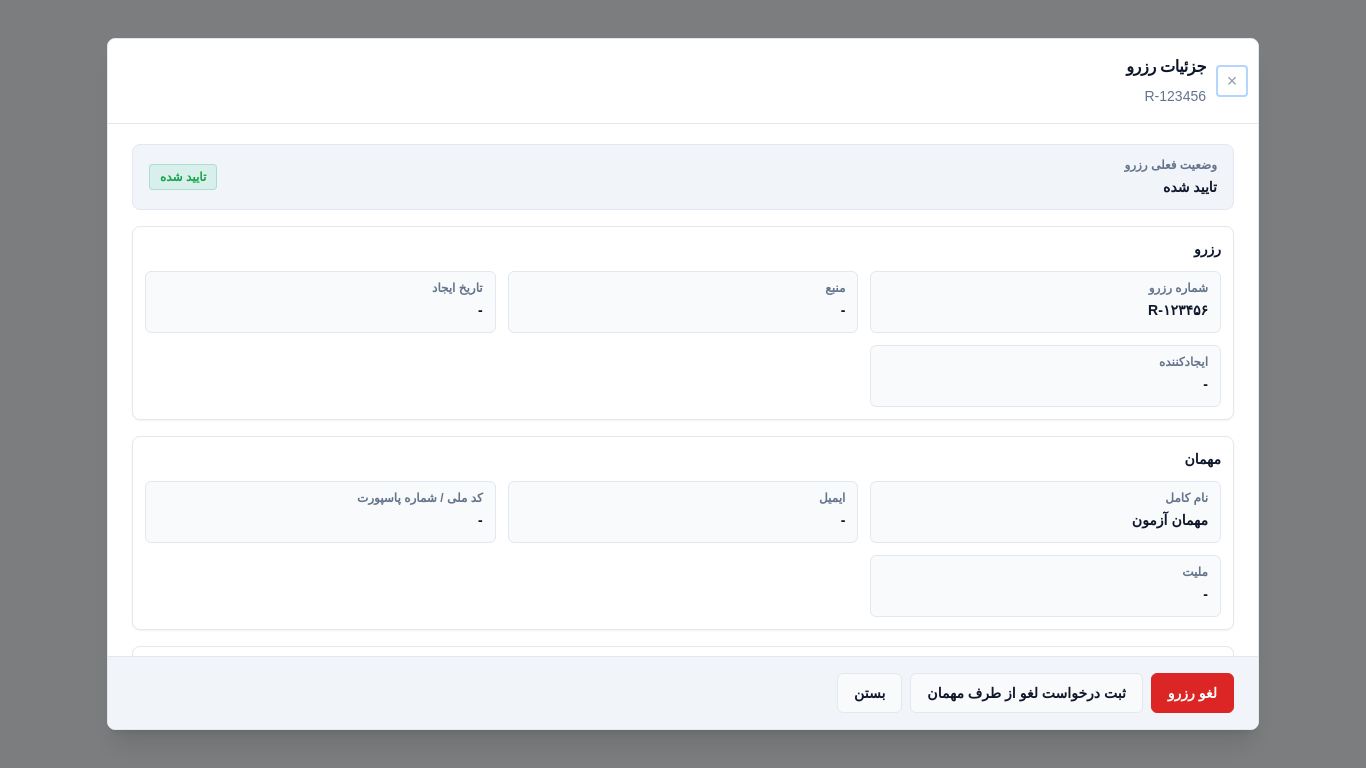
Test: Admin guest cancellation request in reservation details › prevents duplicate submission and preserves form values on an API error
Step 1. Click the button "ثبت درخواست لغو از طرف مهمان" → (1027, 693), box x1=910 y1=673 x2=1143 y2=713
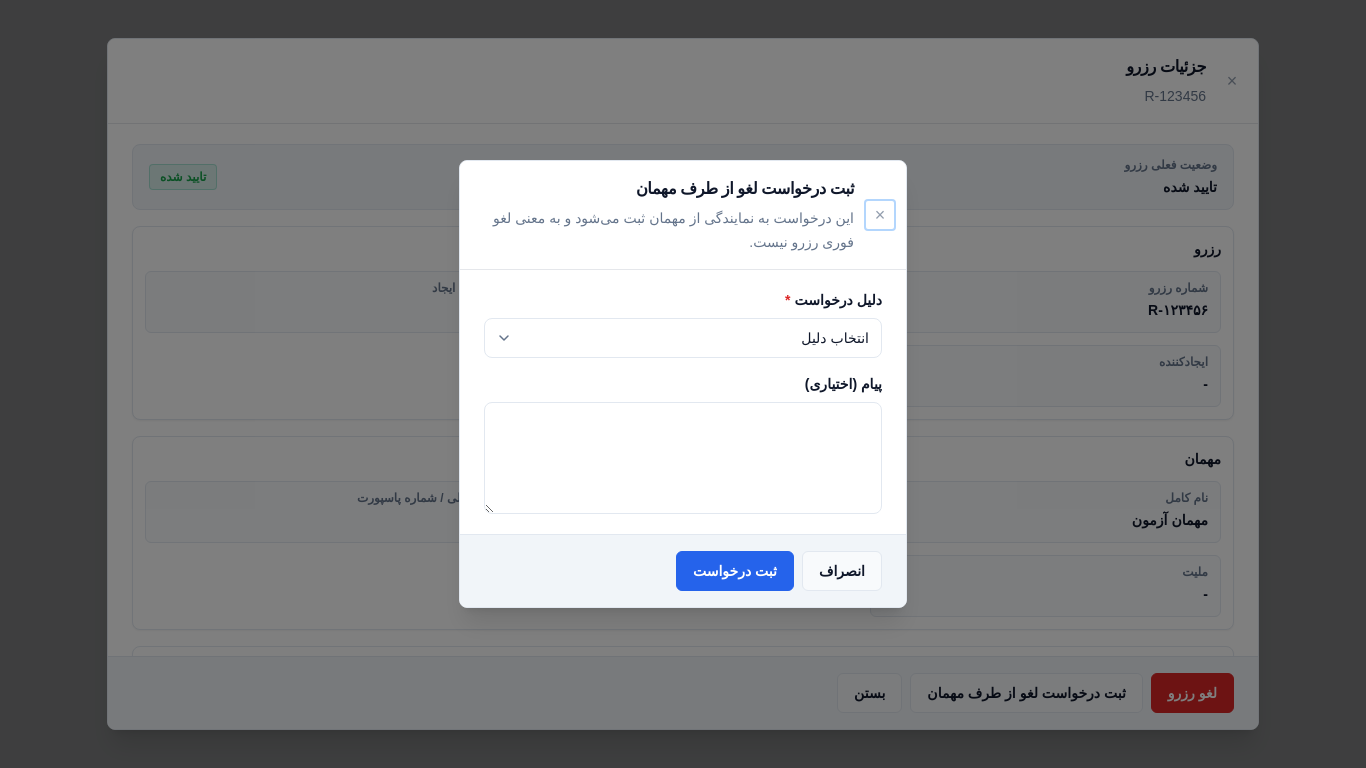
Step 2. Select "سایر" in the dropdown labelled "دلیل درخواست*" → (683, 338), box x1=484 y1=318 x2=882 y2=358
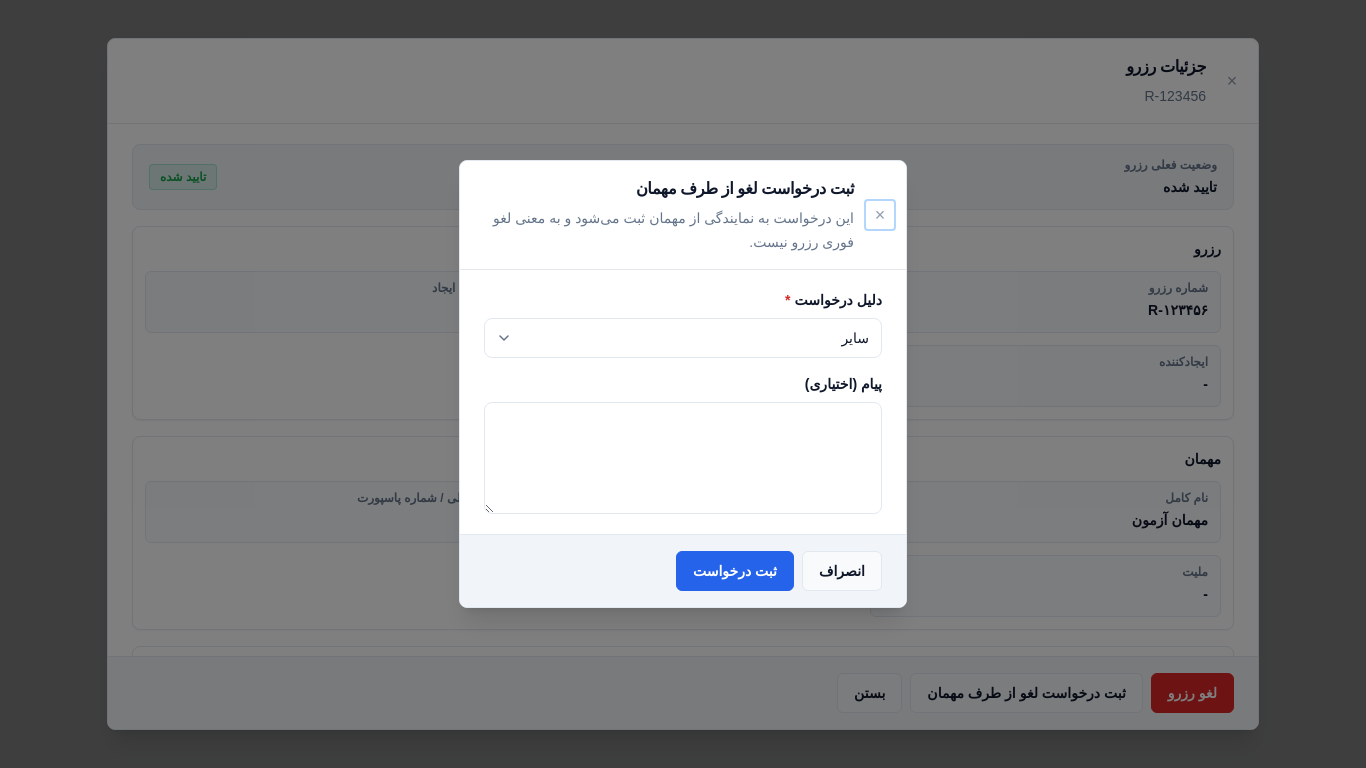
Step 3. Type "متن درخواست" into the text box labelled "پیام (اختیاری)" → (683, 458), box x1=484 y1=402 x2=882 y2=514
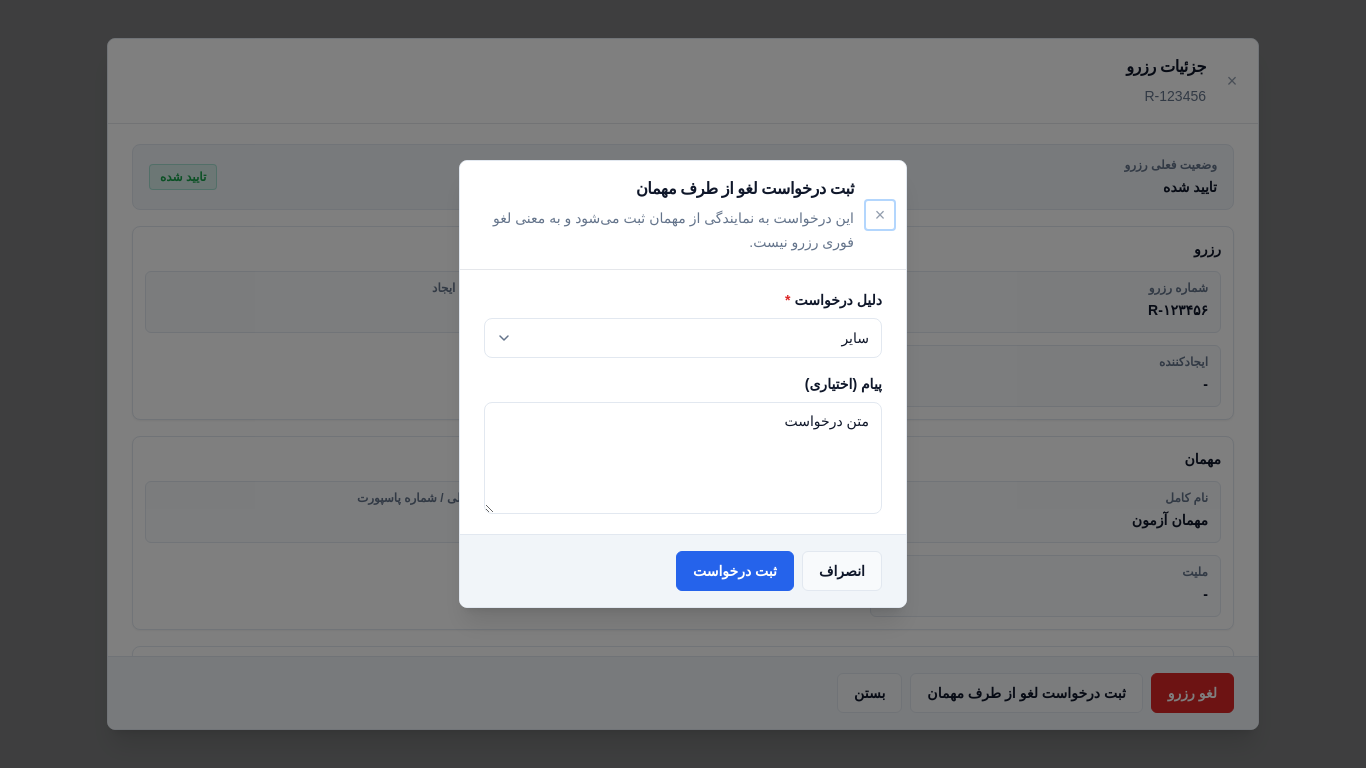
Step 4. Click the button "ثبت درخواست" → (735, 571), box x1=676 y1=551 x2=794 y2=591
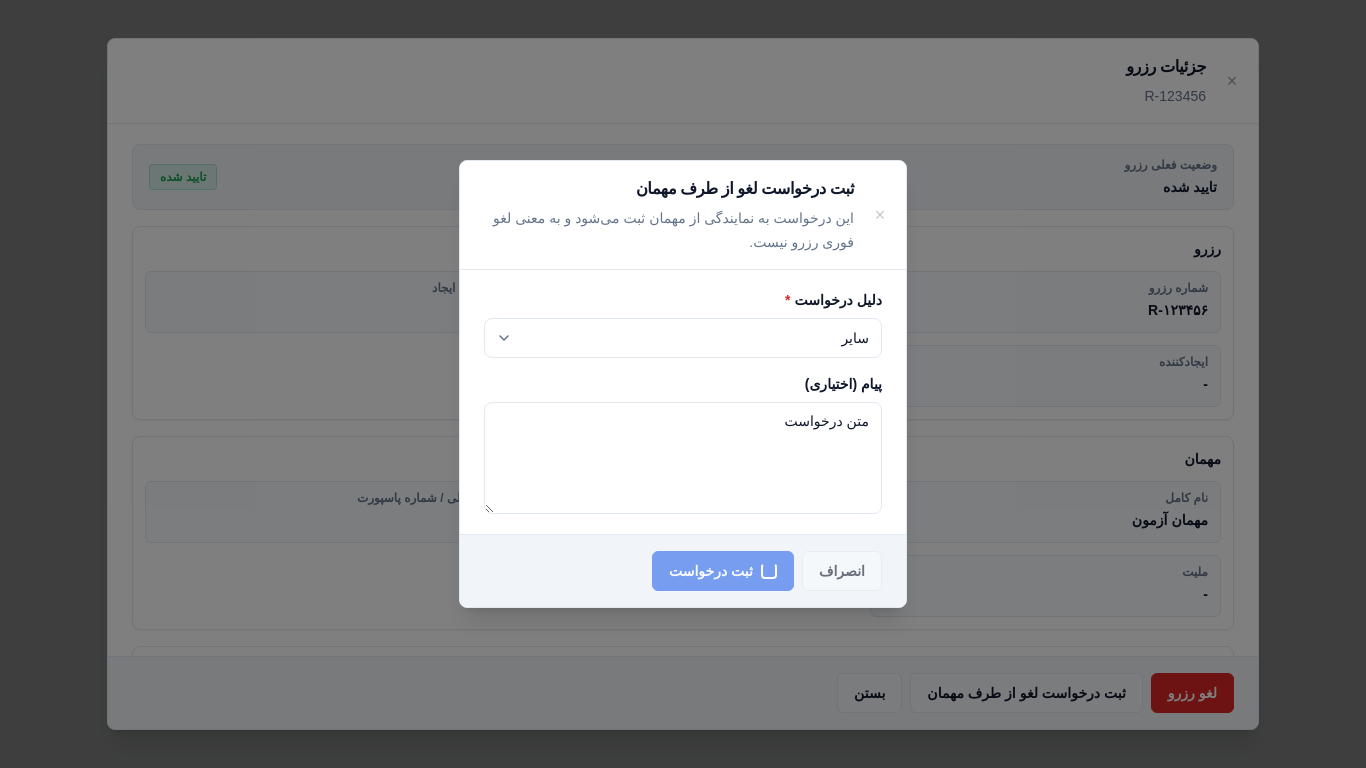
Step 5. Click the button "ثبت درخواست" → (723, 571), box x1=652 y1=551 x2=794 y2=591
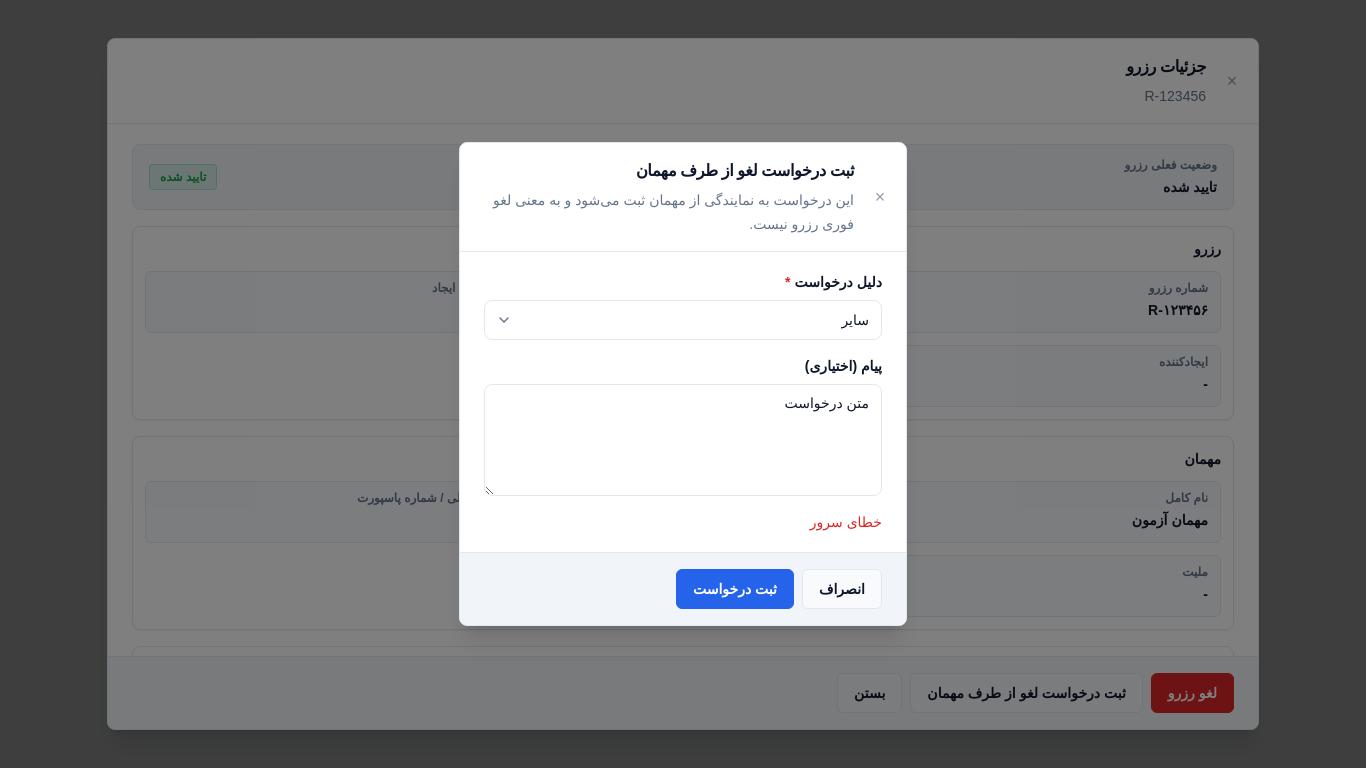
Expected: the message reads "خطای سرور", x1=810 y1=514 x2=882 y2=530
